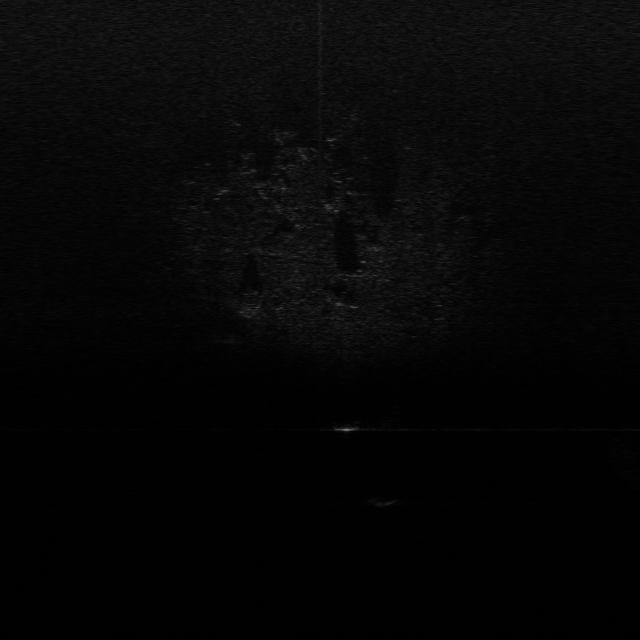cube: (363, 496, 398, 509)
square cage: (329, 420, 362, 436)
